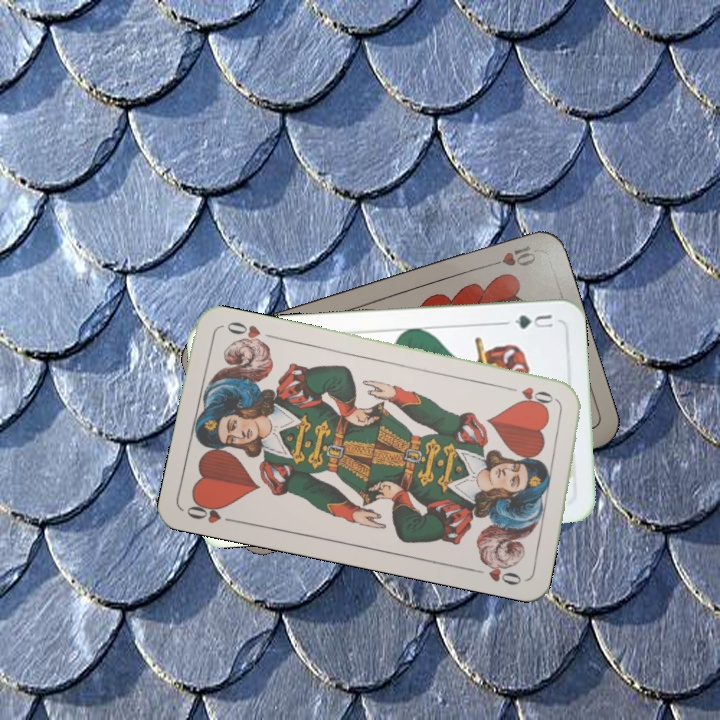GU: (510, 310, 556, 332)
H10: (481, 241, 539, 271)
HO: (182, 497, 240, 526), (503, 382, 561, 407)
